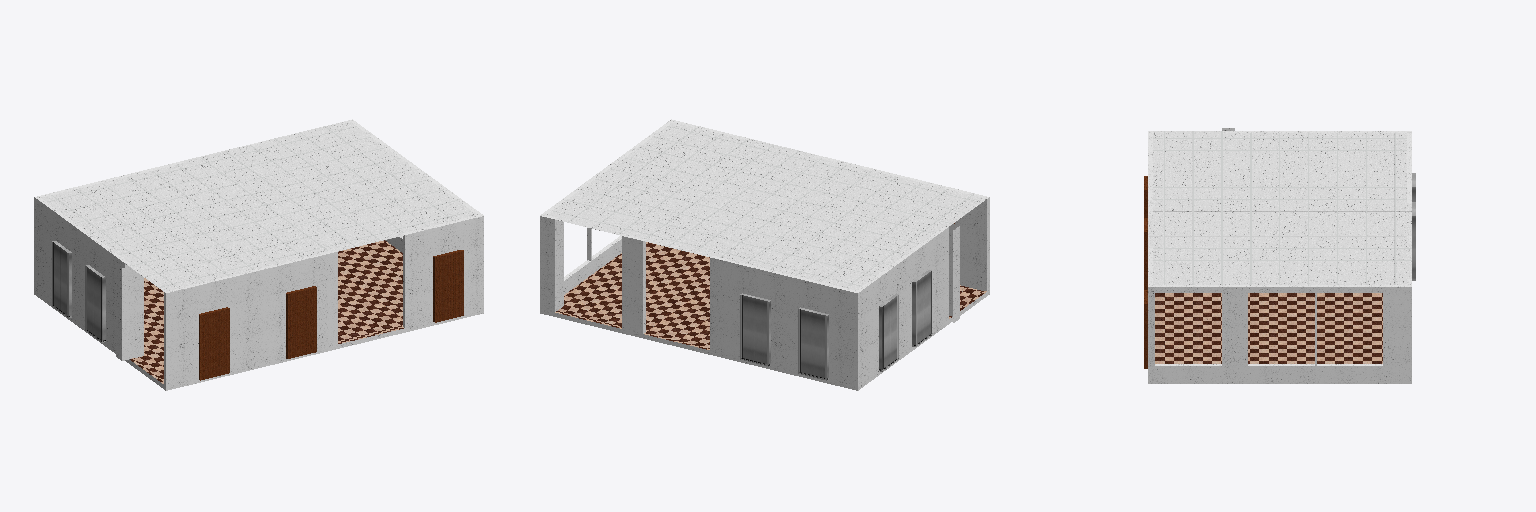
The picture shows the model from 3 angles: view 1: azimuth 30°, elevation 25°; view 2: azimuth 150°, elevation 25°; view 3: azimuth 270°, elevation 25°; orthographic projection.
Visible parts, largest first — view 1: Plane.362, Plane.361, door_elevator.109, door.032, column_6/8.013, door_elevator.110; view 2: Plane.362, Plane.361, door.046, door.032, column_6/8.013, column_1/4.008; view 3: Plane.362, Plane.361.
Part boxes in pixels (bbox=[...]): Plane.362: bbox=[42, 122, 476, 291]; Plane.361: bbox=[34, 119, 483, 390]; door_elevator.109: bbox=[199, 286, 316, 380]; door.032: bbox=[52, 241, 105, 342]; column_6/8.013: bbox=[116, 264, 143, 360]; door_elevator.110: bbox=[433, 250, 463, 322]; Plane.362: bbox=[547, 122, 985, 290]; Plane.361: bbox=[540, 119, 989, 390]; door.046: bbox=[740, 293, 828, 380]; door.032: bbox=[879, 270, 931, 371]; column_6/8.013: bbox=[949, 224, 959, 322]; column_1/4.008: bbox=[557, 220, 563, 310]; Plane.362: bbox=[1148, 131, 1411, 284]; Plane.361: bbox=[1148, 131, 1411, 383].
Bounding box in the file's own units: 3.89 × 1.11 × 2.81.
Materials: 6 (5 with a texture image).